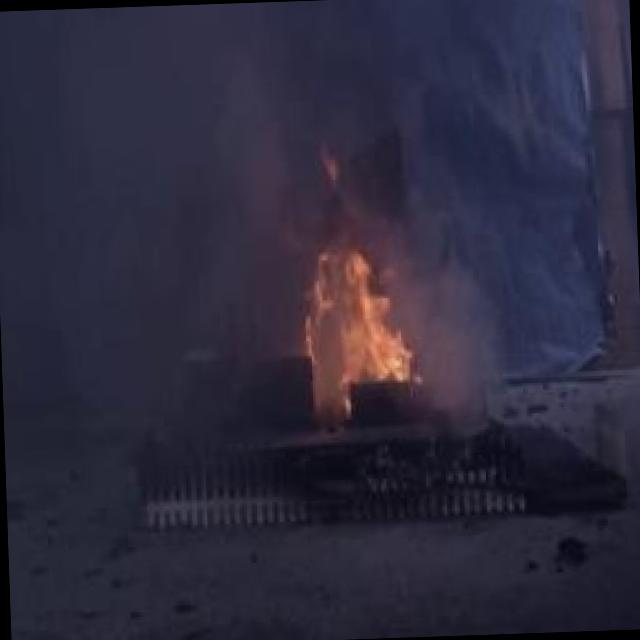fire: (300, 208, 419, 407)
